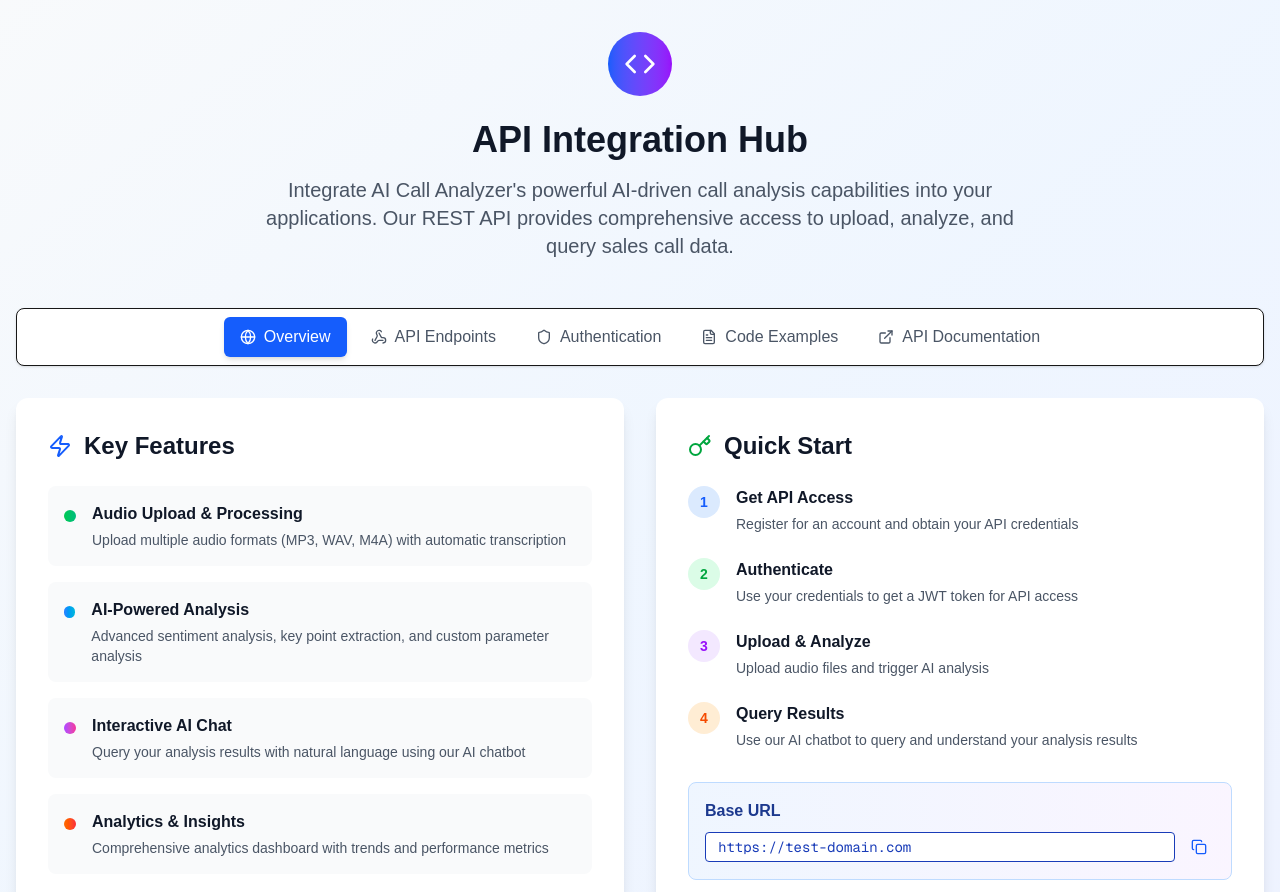
Test case: IntegrationsPage › handles API endpoint fetching error
Click the button "API Endpoints".
click(433, 337)  # box top-left (354, 317), bottom-right (512, 357)
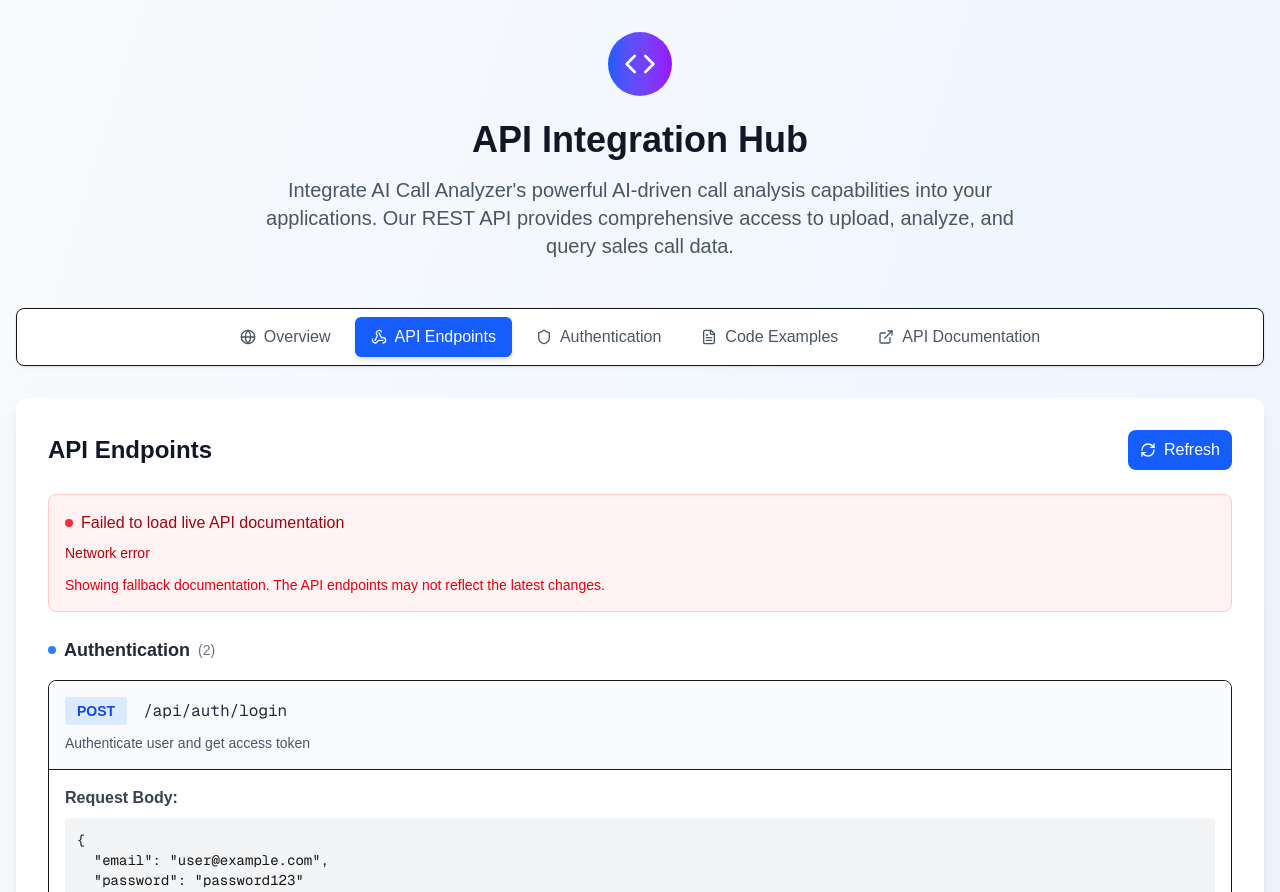
Expected: the text "Failed to load live API documentation" is shown, top-left (81, 511), bottom-right (344, 535)
Expected: the text "Network error" is shown, top-left (65, 545), bottom-right (150, 561)
